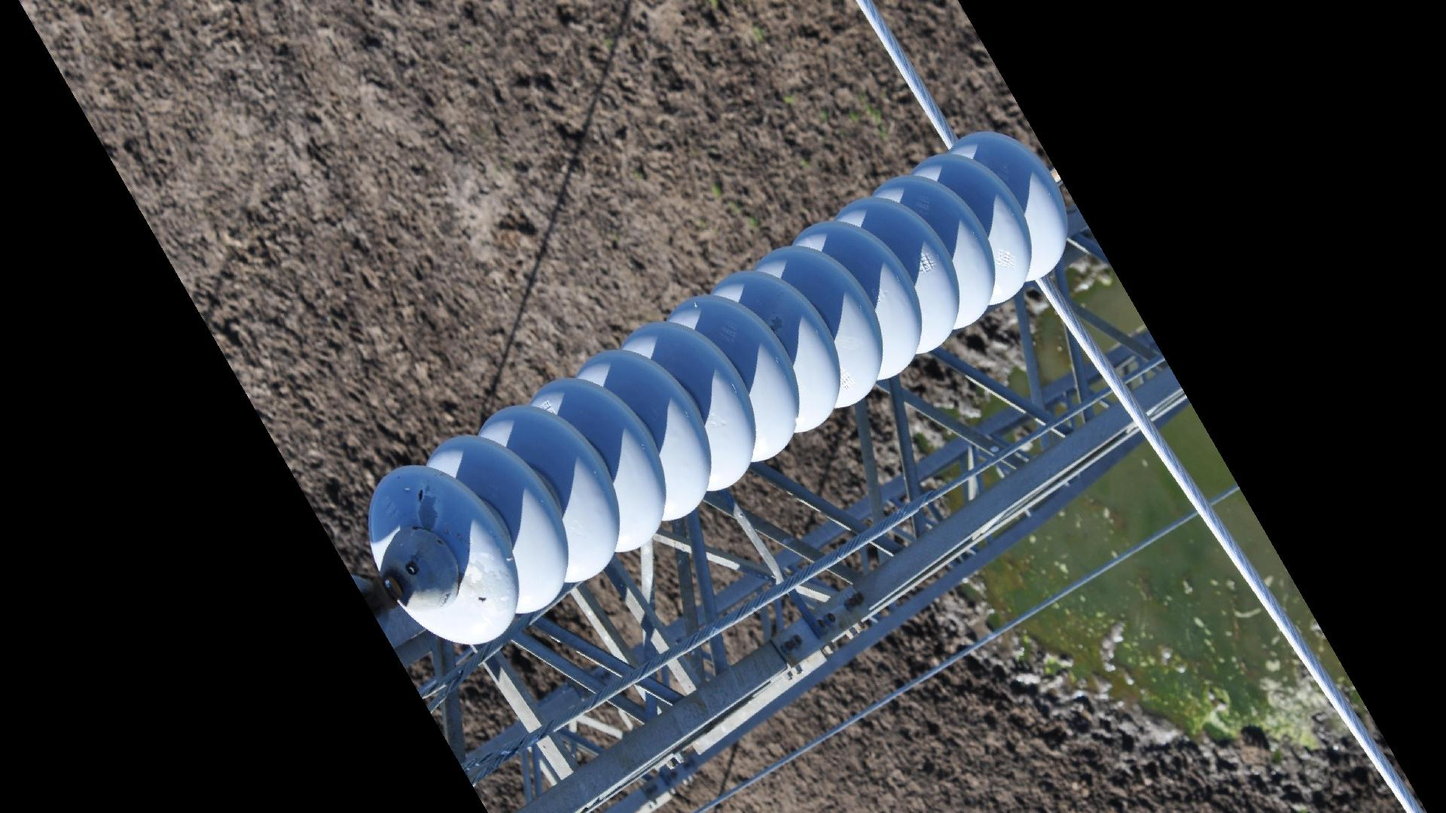insulator: (359, 126, 1079, 650)
insulator_flashover: (413, 487, 443, 532)
